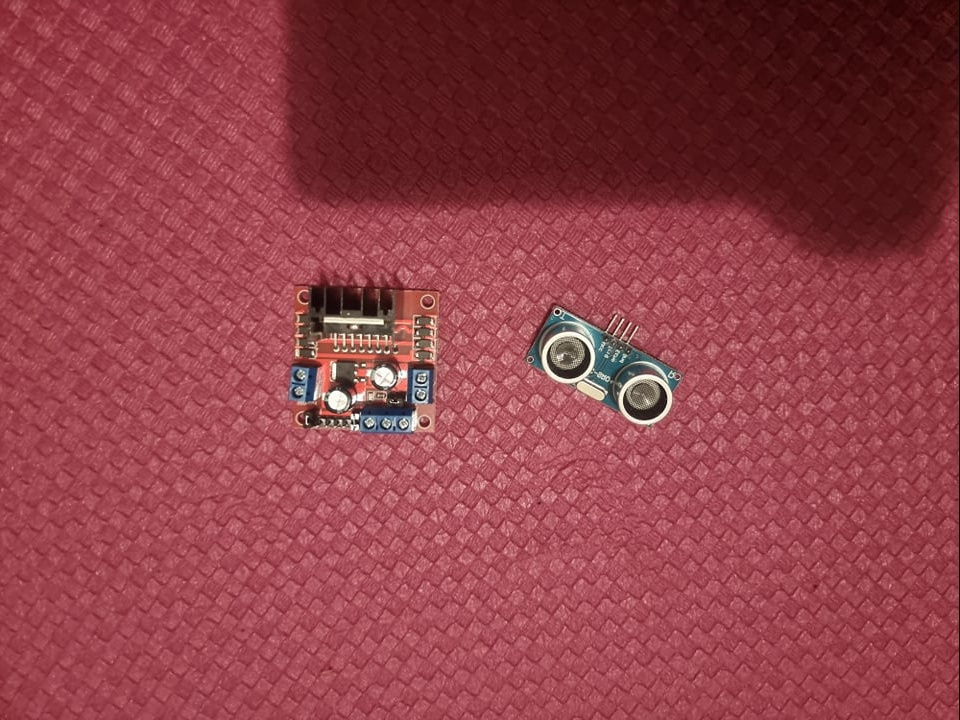MOTOR: (287, 277, 439, 435)
SENSOR: (523, 308, 688, 433)
